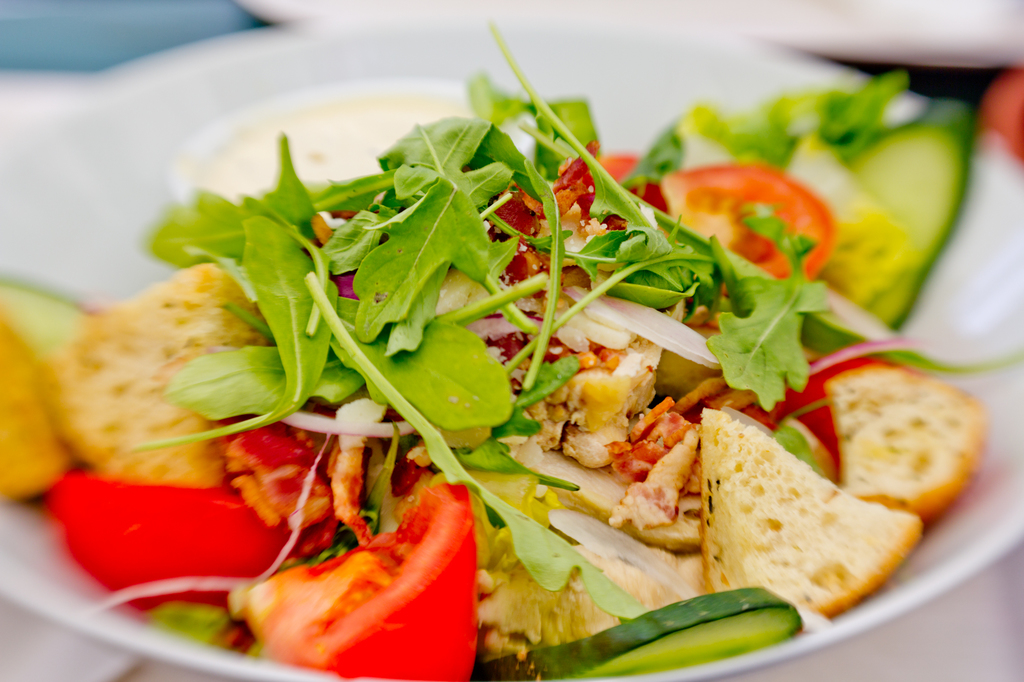salad: (0, 4, 995, 681)
